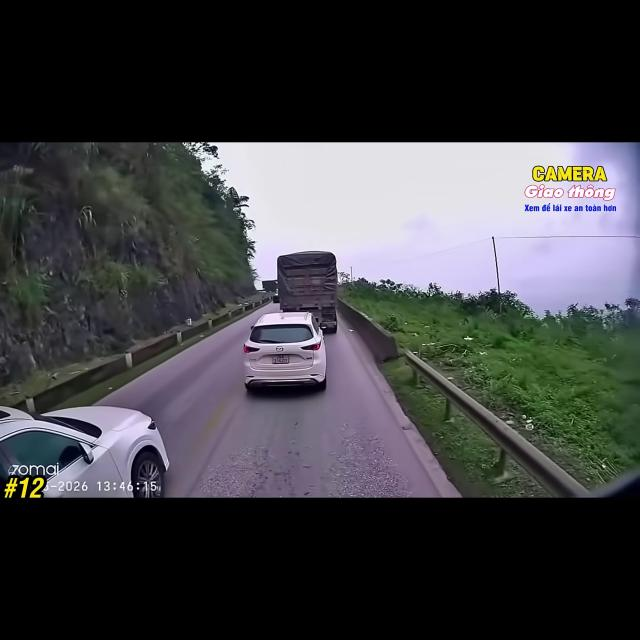car: (0, 406, 169, 497), (244, 312, 326, 390), (272, 290, 280, 304)
truck: (277, 251, 337, 333), (262, 280, 277, 292)
